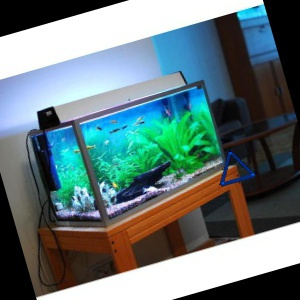triangle: (218, 149, 258, 187)
